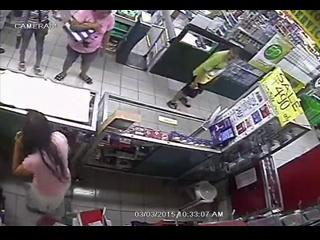Normal: (12, 111, 72, 220), (53, 10, 116, 84), (167, 47, 240, 110), (16, 11, 52, 76)
